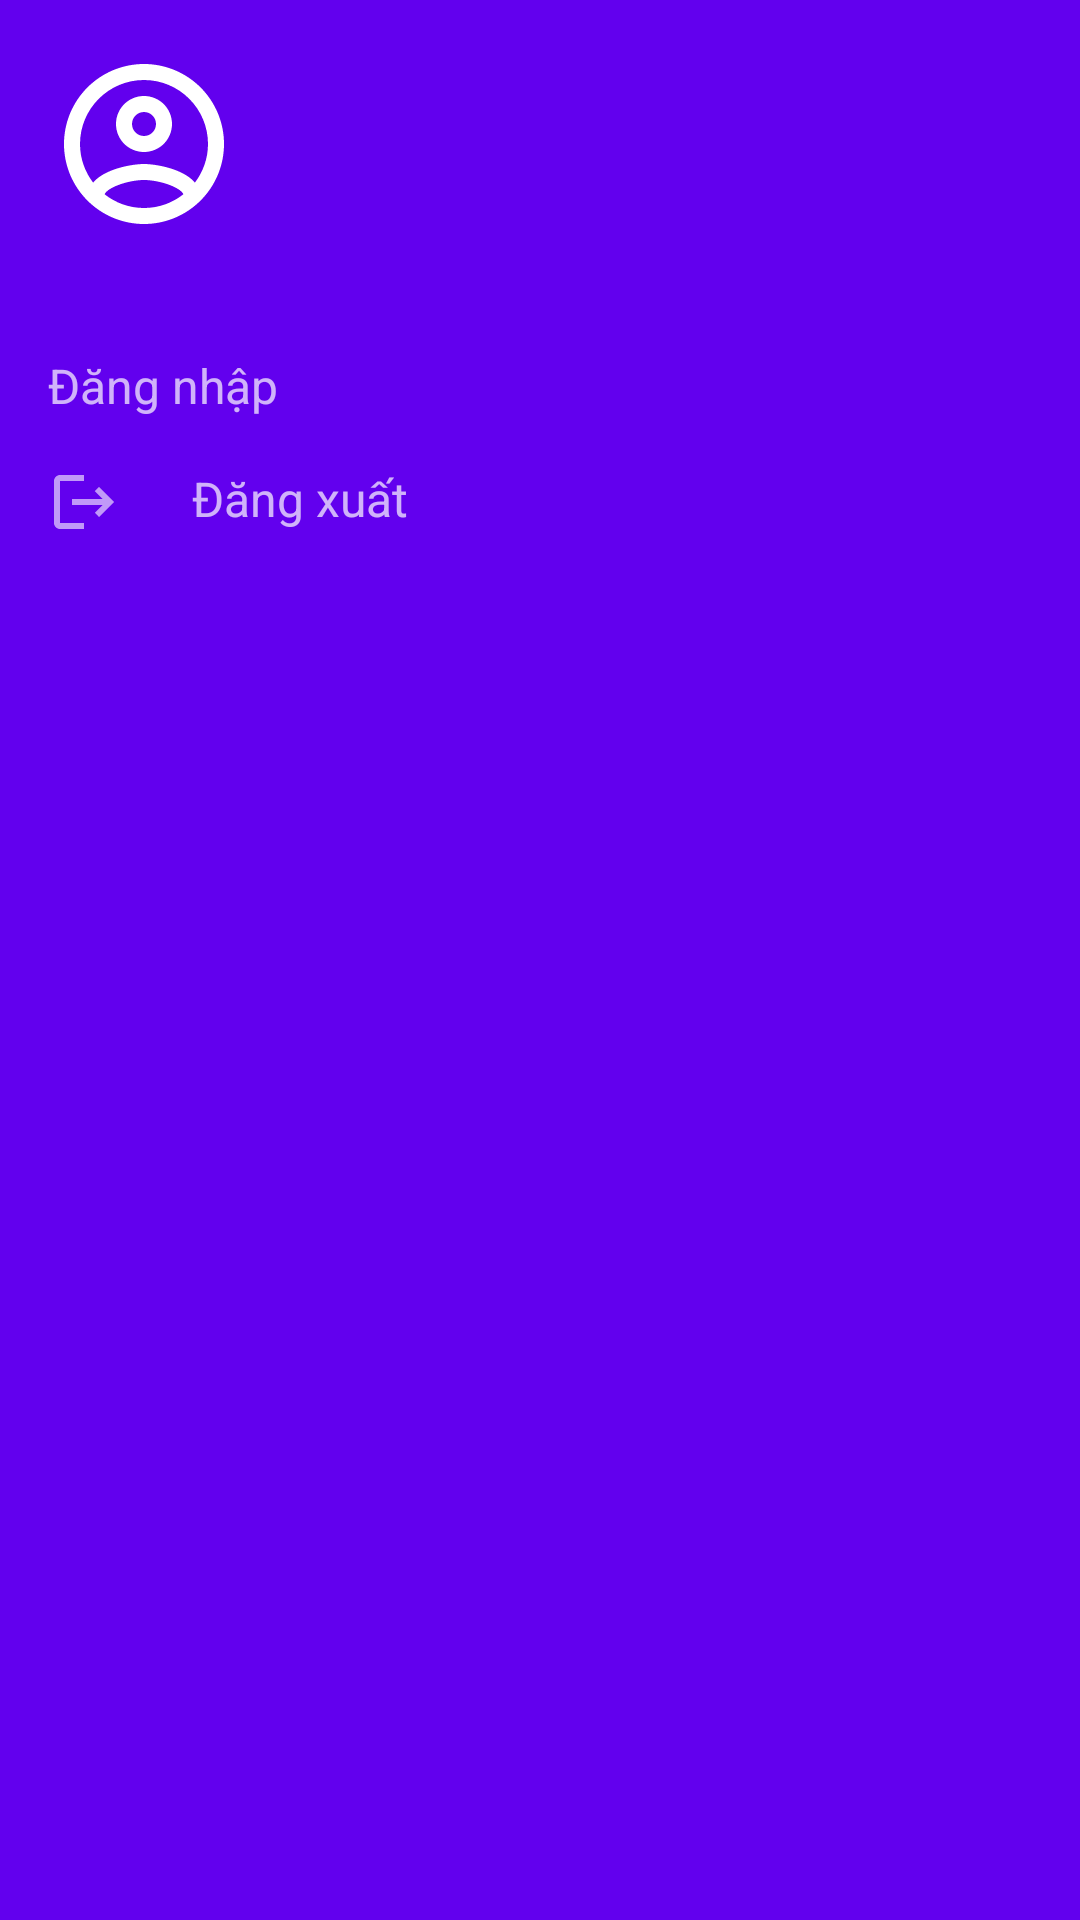

Where to tap for icons on this 1080x1920 app screen, as (x=x, y=y):
account: (x=144, y=144)
log out: (x=84, y=502)
